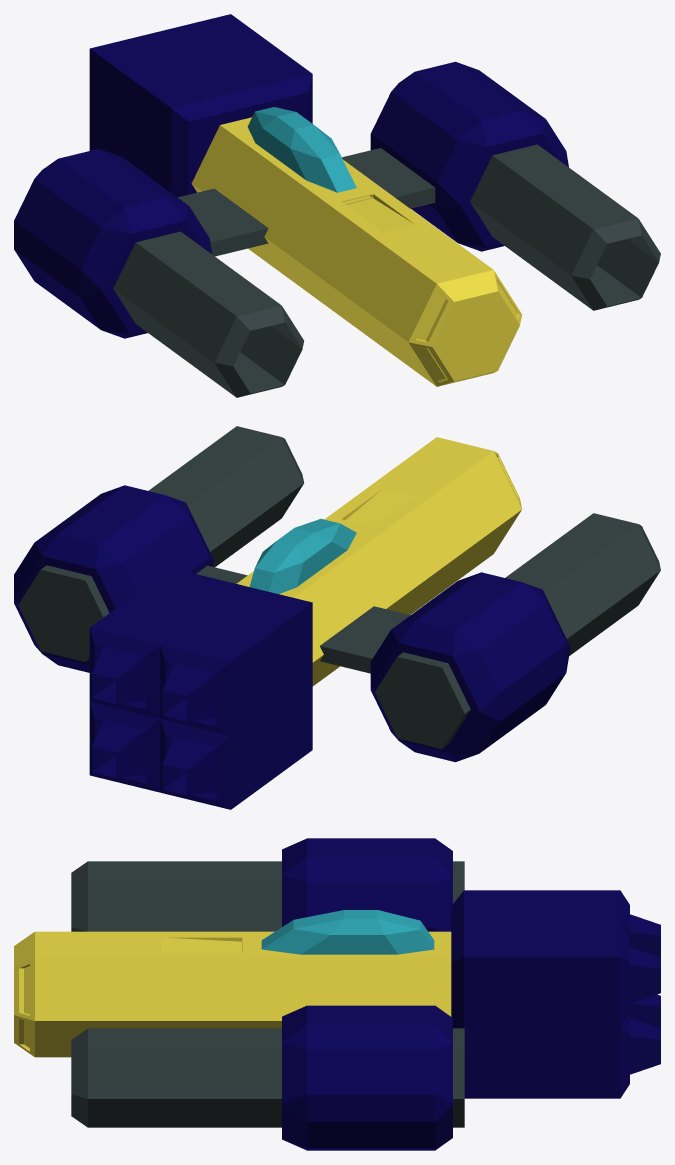
The model's file is ShipC.fbx.
3 renders of one model, top to bottom at view 1: azimuth 30°, elevation 25°; view 2: azimuth 150°, elevation 25°; view 3: azimuth 270°, elevation 25°, orthographic. The views are drawn at different scales.
Visible parts, largest first — view 1: Cylinder.002, Cylinder, Cylinder.001, Cube.002, Cube, Cube.001; view 2: Cube.002, Cylinder.001, Cylinder.002, Cylinder, Cube.001, Cube; view 3: Cube.002, Cylinder.002, Cylinder.001, Cylinder, Cube.001.
Part boxes in pixels (bbox=[...]): Cylinder.002: bbox=[14, 61, 568, 338]; Cylinder: bbox=[191, 117, 522, 386]; Cylinder.001: bbox=[113, 144, 660, 397]; Cube.002: bbox=[89, 14, 312, 197]; Cube: bbox=[177, 148, 435, 256]; Cube.001: bbox=[247, 107, 356, 192]; Cube.002: bbox=[89, 568, 312, 809]; Cylinder.001: bbox=[18, 426, 660, 748]; Cylinder.002: bbox=[14, 485, 570, 762]; Cylinder: bbox=[236, 437, 522, 686]; Cube.001: bbox=[249, 519, 356, 593]; Cube: bbox=[196, 565, 410, 673]; Cube.002: bbox=[451, 890, 660, 1098]; Cylinder.002: bbox=[282, 838, 452, 1150]; Cylinder.001: bbox=[71, 861, 464, 1127]; Cylinder: bbox=[14, 931, 451, 1057]; Cube.001: bbox=[261, 910, 434, 954].
Size of the model in its own units: 854 by 264 by 1025.
